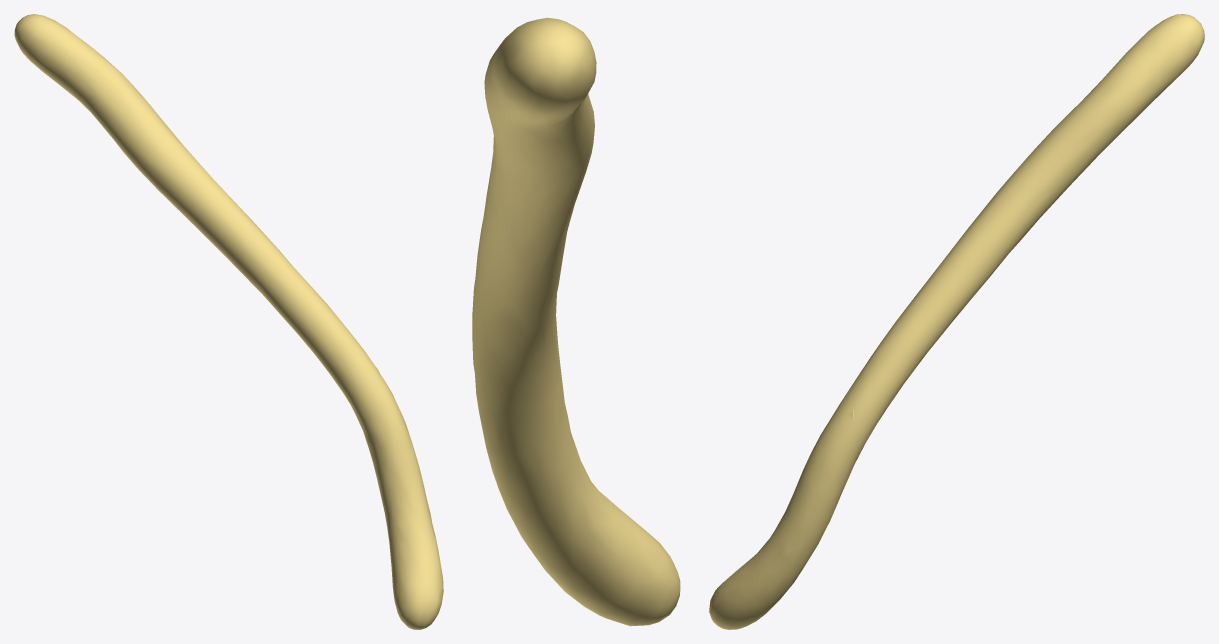
File: fma50894_mm2641.glb
3 renders of one model, left to right at view 1: azimuth 30°, elevation 25°; view 2: azimuth 150°, elevation 25°; view 3: azimuth 270°, elevation 25°, orthographic. The views are drawn at different scales.
Visible parts, largest first — view 1: FMA50894_MM2641; view 2: FMA50894_MM2641; view 3: FMA50894_MM2641.
Boxes of the visible parts, x1,y1,x2,y2 form: FMA50894_MM2641: [14, 14, 443, 629]; FMA50894_MM2641: [472, 17, 680, 626]; FMA50894_MM2641: [709, 14, 1204, 629].
Size of the model in its own units: 0.00861 by 0.0181 by 0.0155.
